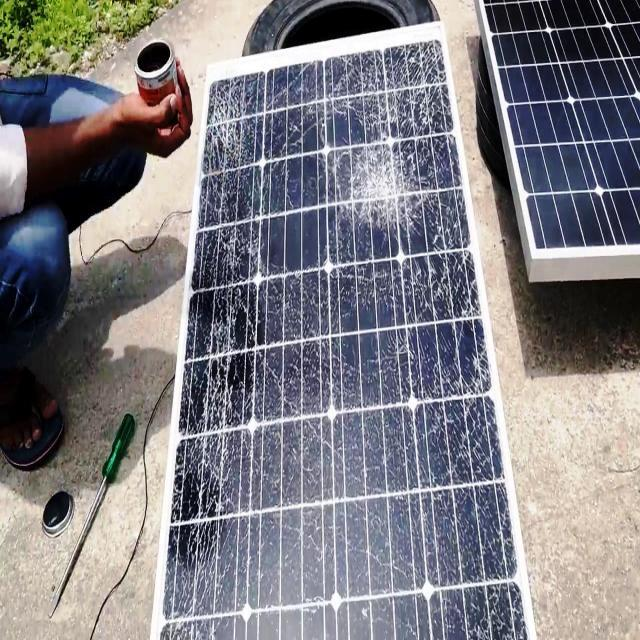faulty: (163, 23, 537, 638)
no faulty: (480, 2, 640, 266)
